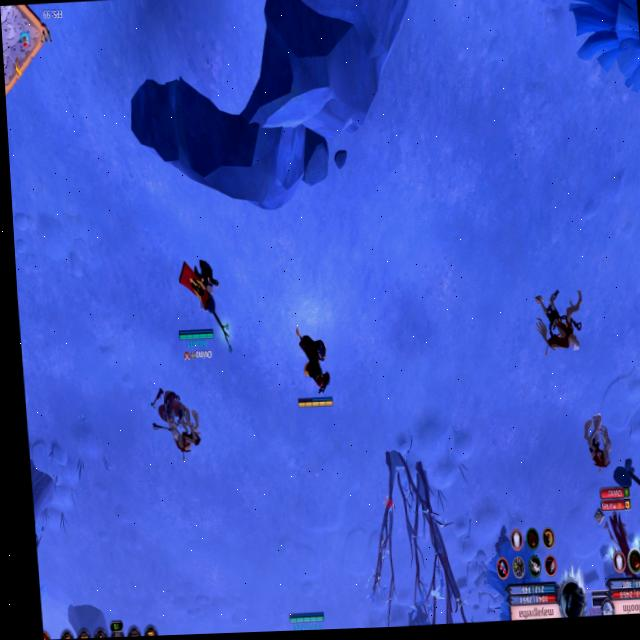ore: (146, 379, 206, 464), (530, 280, 588, 365), (600, 508, 640, 582), (577, 407, 618, 476), (634, 387, 640, 456)
red: (170, 251, 237, 368), (287, 320, 338, 416), (580, 585, 636, 616), (281, 603, 334, 631)
